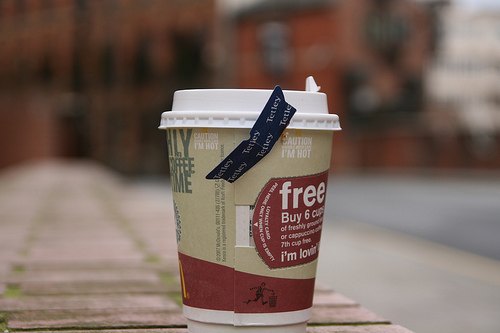litter: (157, 75, 343, 333)
